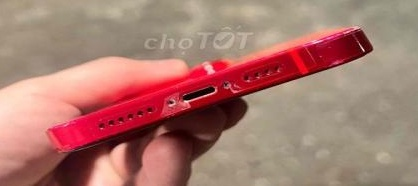scratch: (155, 87, 202, 122), (225, 74, 251, 100)
